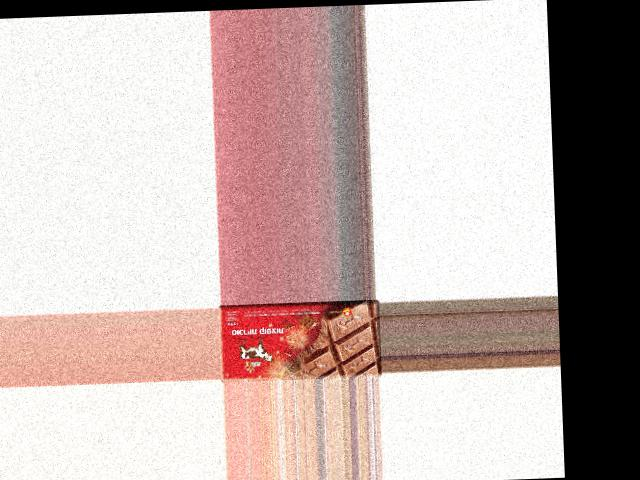chocolate: (217, 299, 381, 381)
